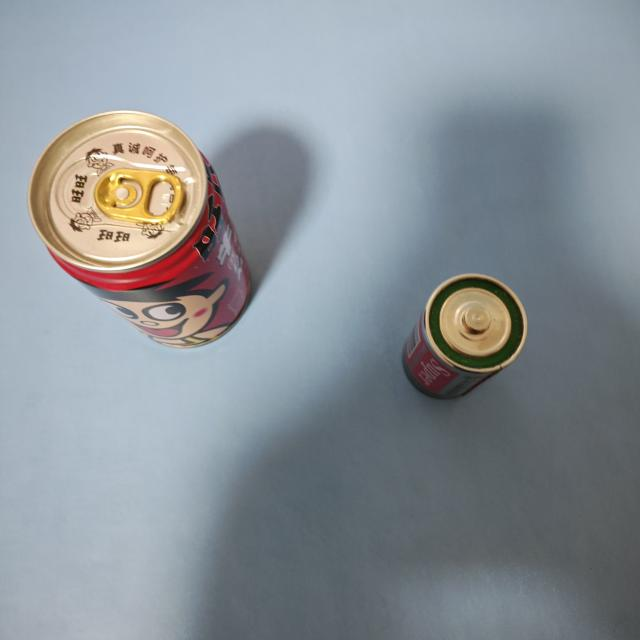-Hazardous waste - battery-: (400, 271, 527, 400)
-Recyclables - can-: (31, 109, 252, 346)
